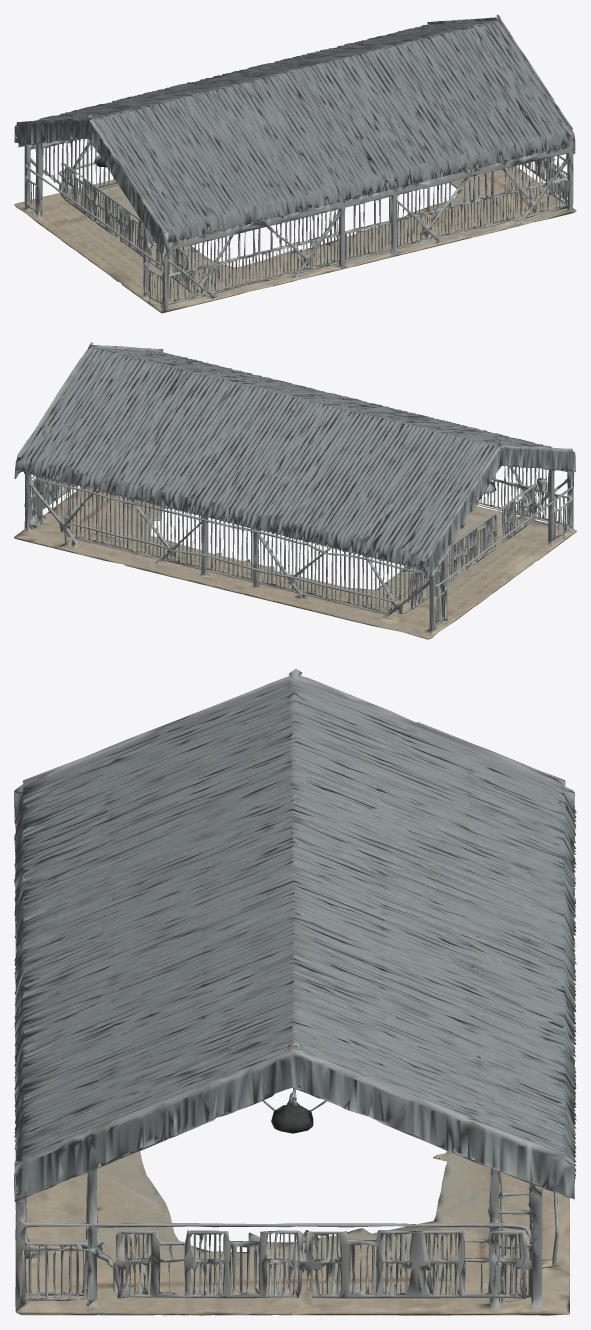
Rendered from dairy-barn.glb.
The picture shows the model from 3 angles, top to bottom: view 1: azimuth 30°, elevation 25°; view 2: azimuth 150°, elevation 25°; view 3: azimuth 270°, elevation 25°; orthographic projection. The views are drawn at different scales.
Size of the model in its own units: 1.91 by 0.6313 by 1.19.
Materials: 1 (1 with a texture image).
